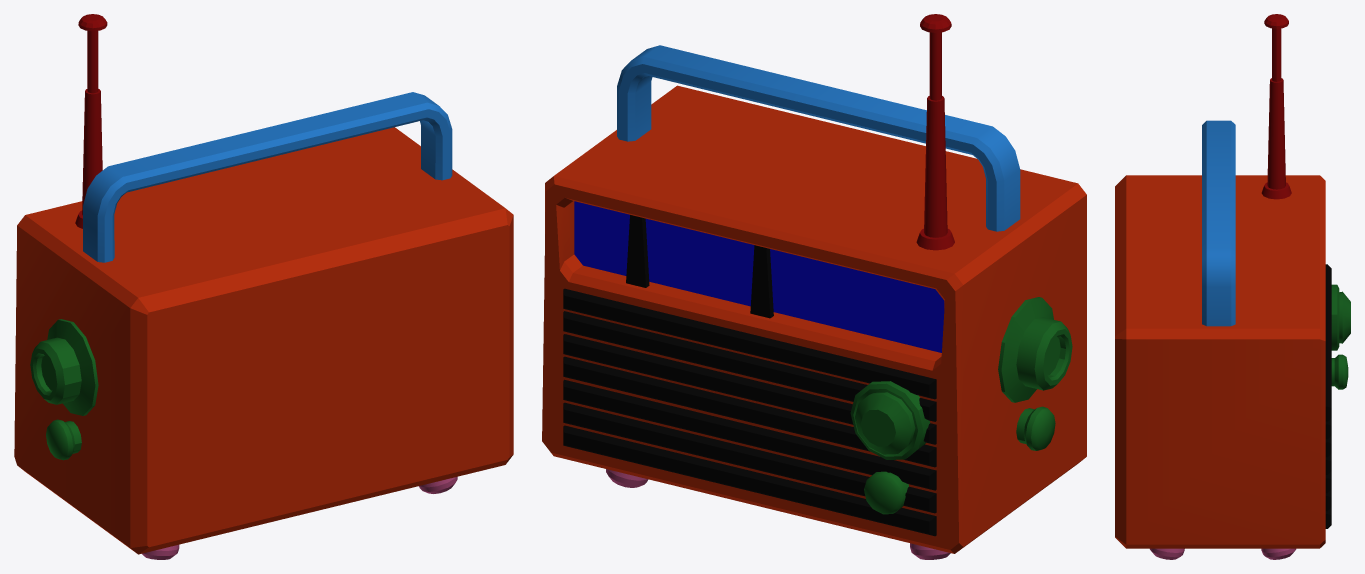
Rendered from Radio.FBX.
The picture shows the model from 3 angles, left to right: view 1: azimuth 30°, elevation 25°; view 2: azimuth 150°, elevation 25°; view 3: azimuth 270°, elevation 25°; orthographic projection. The views are drawn at different scales.
Parts seen in each view (by area): view 1: Radio; view 2: Radio; view 3: Radio.
Boxes of the visible parts, left/top/right/bottom form: Radio: left=14, top=14, right=513, bottom=559; Radio: left=542, top=14, right=1086, bottom=559; Radio: left=1115, top=14, right=1350, bottom=559.
Bounding box in the file's own units: 970 × 560 × 1110.
